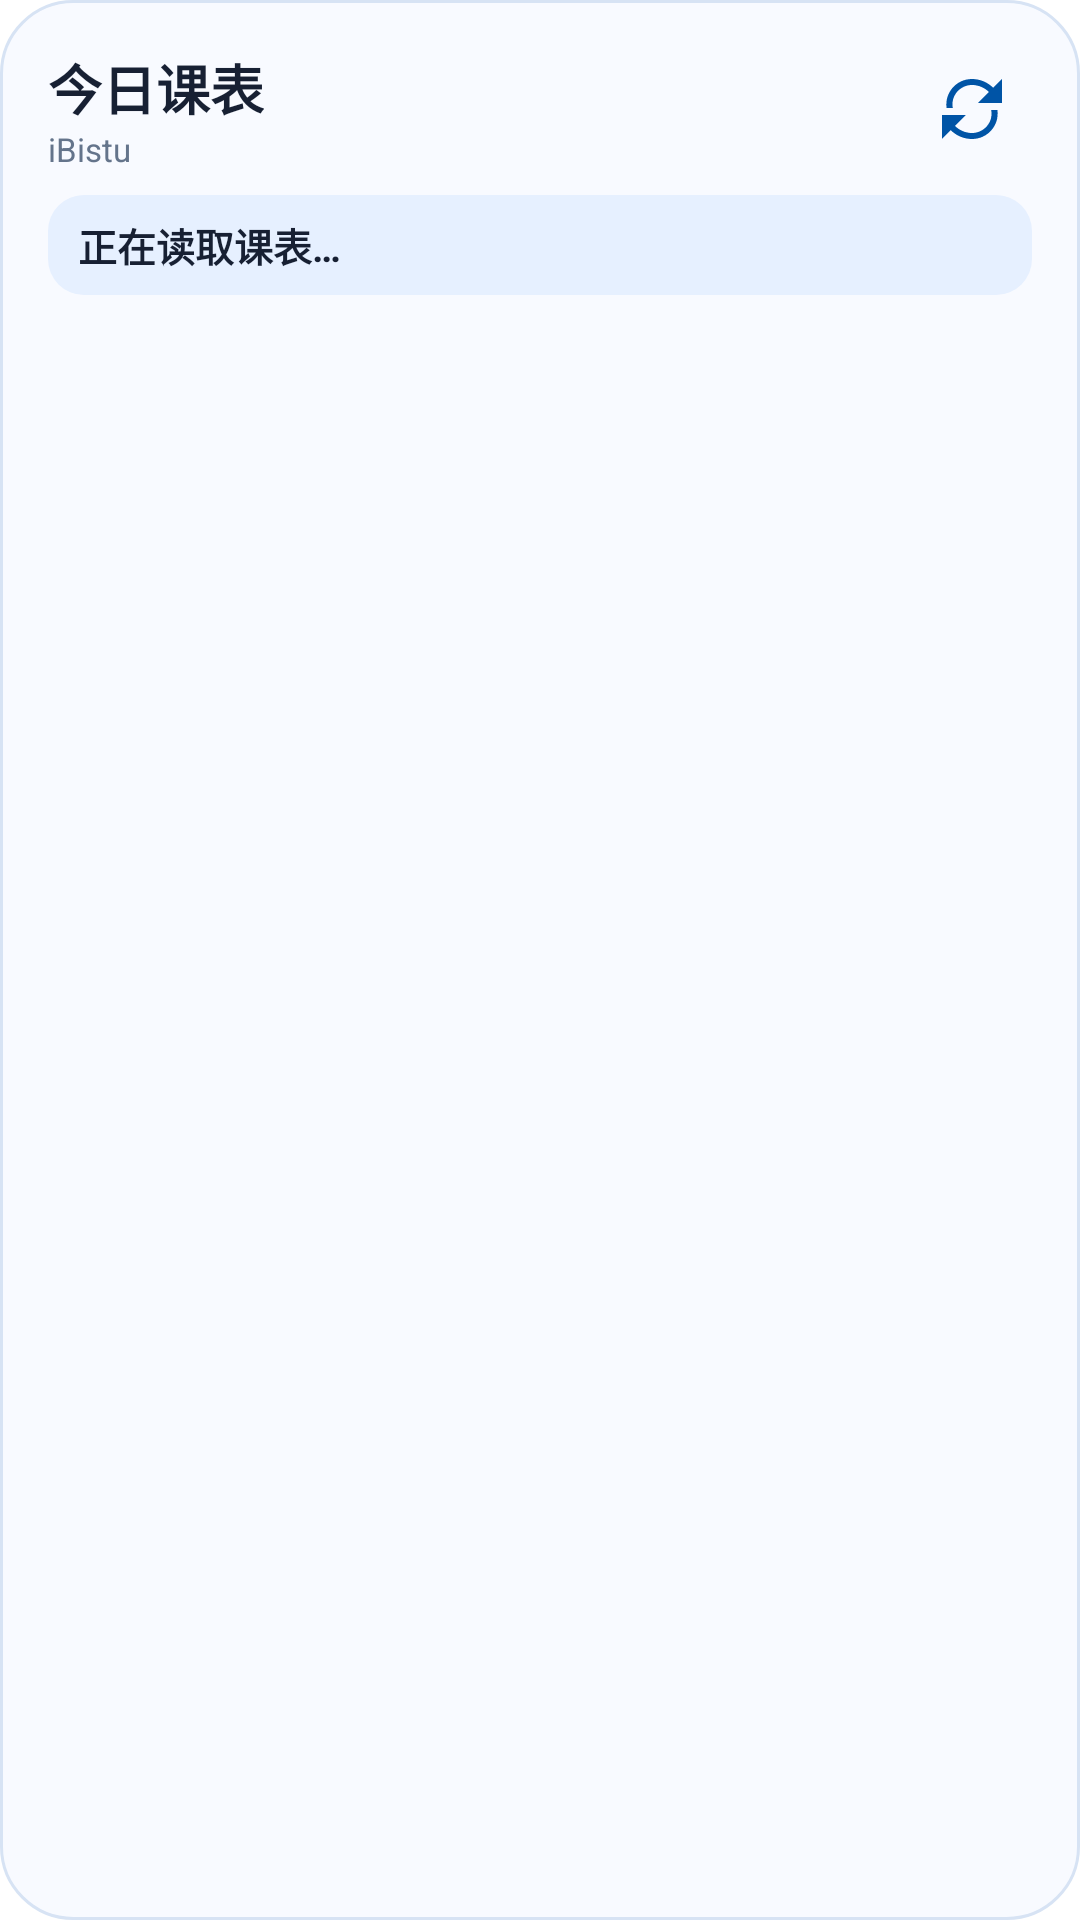

Where to tap for icons on this 1080×1920 app screen, as (x=x, y=y):
刷新桌面课表: (x=972, y=109)
